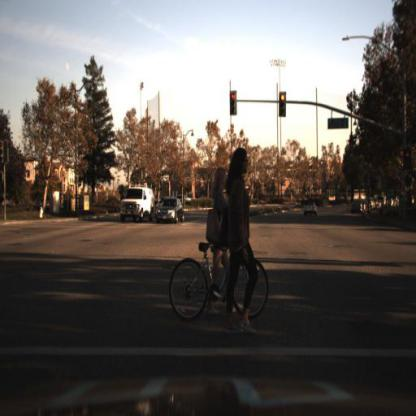biker: (200, 154, 234, 334)
car: (119, 182, 158, 233), (156, 193, 187, 228), (299, 191, 324, 225), (350, 197, 369, 219), (351, 197, 364, 216)
pedestrian: (222, 132, 263, 337)
trafficLight-Red: (278, 88, 289, 123), (402, 145, 414, 174)
trafficLight-RedLeft: (228, 84, 239, 120)
